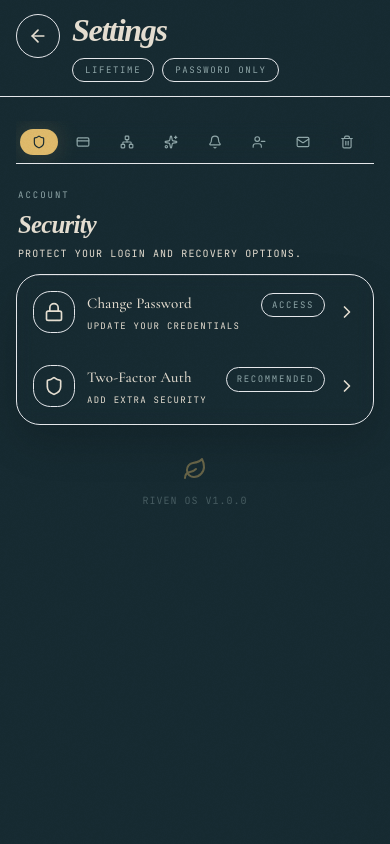
it: Settings LMS sync › shows the current plan without the extra lifetime membership card
The width and height of the screenshot is (390, 844).
Click the 2nd tab named "Plan & access" at (83, 142), box [64,129,102,155]
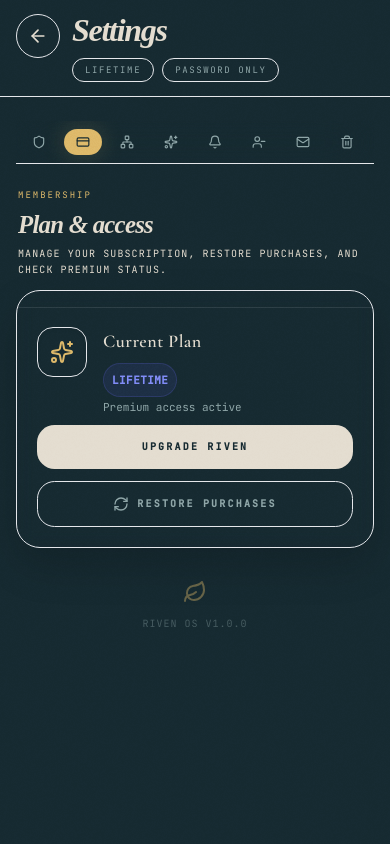
Check: the text "Lifetime" is shown, box [72,58,154,82]
Check: the heading "Plan & access" is shown, box [18,211,153,238]
